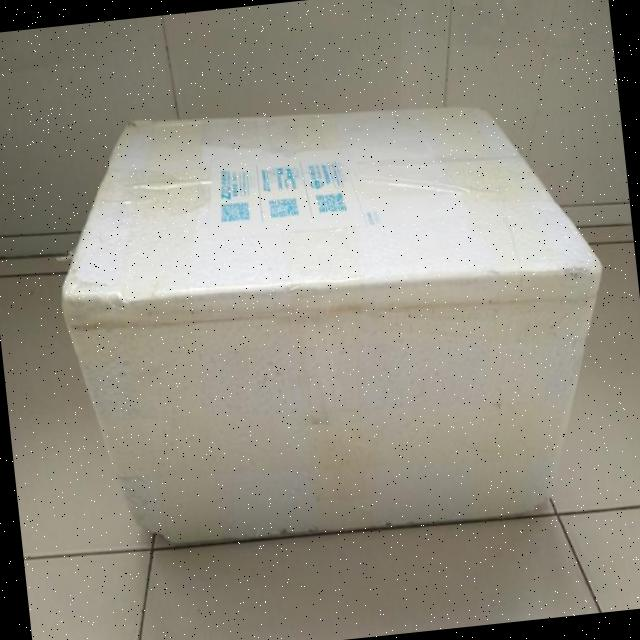styrofoam: (41, 69, 628, 564)
